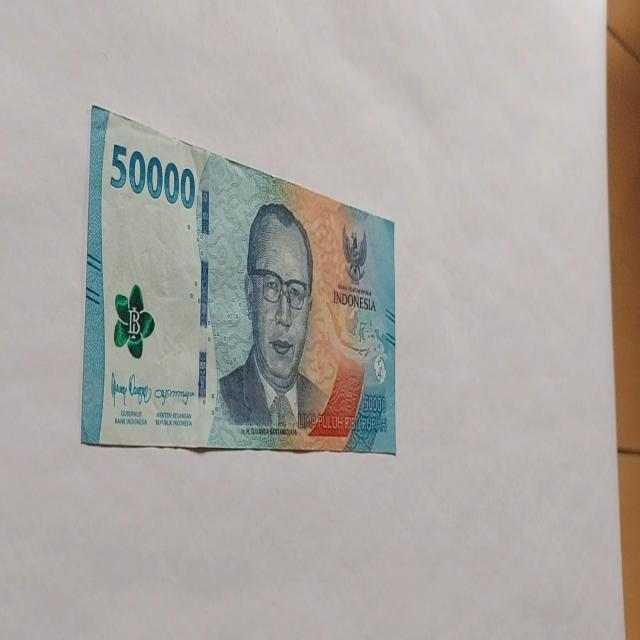lima puluh ribu rupiah: (80, 103, 397, 455), (211, 200, 331, 442), (108, 140, 196, 210)
